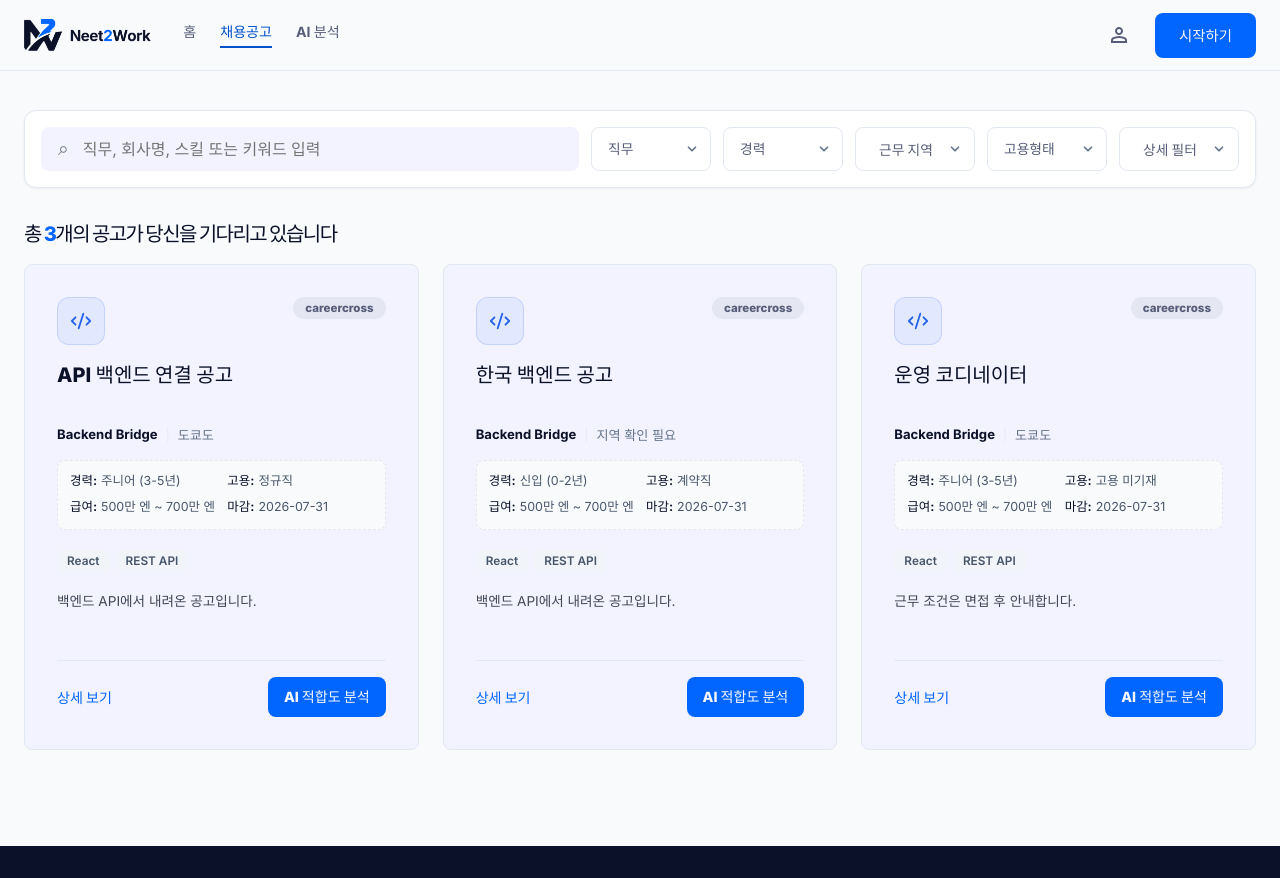
Scenario: Jobs page backend integration › filters only unspecified employment jobs with a server-side unspecified enum
Expected: the heading "API 백엔드 연결 공고" is shown, [57,363,233,387]
Select "미기재" in the 3rd dropdown named "고용형태" at (1047, 149), box [987,127,1107,171]
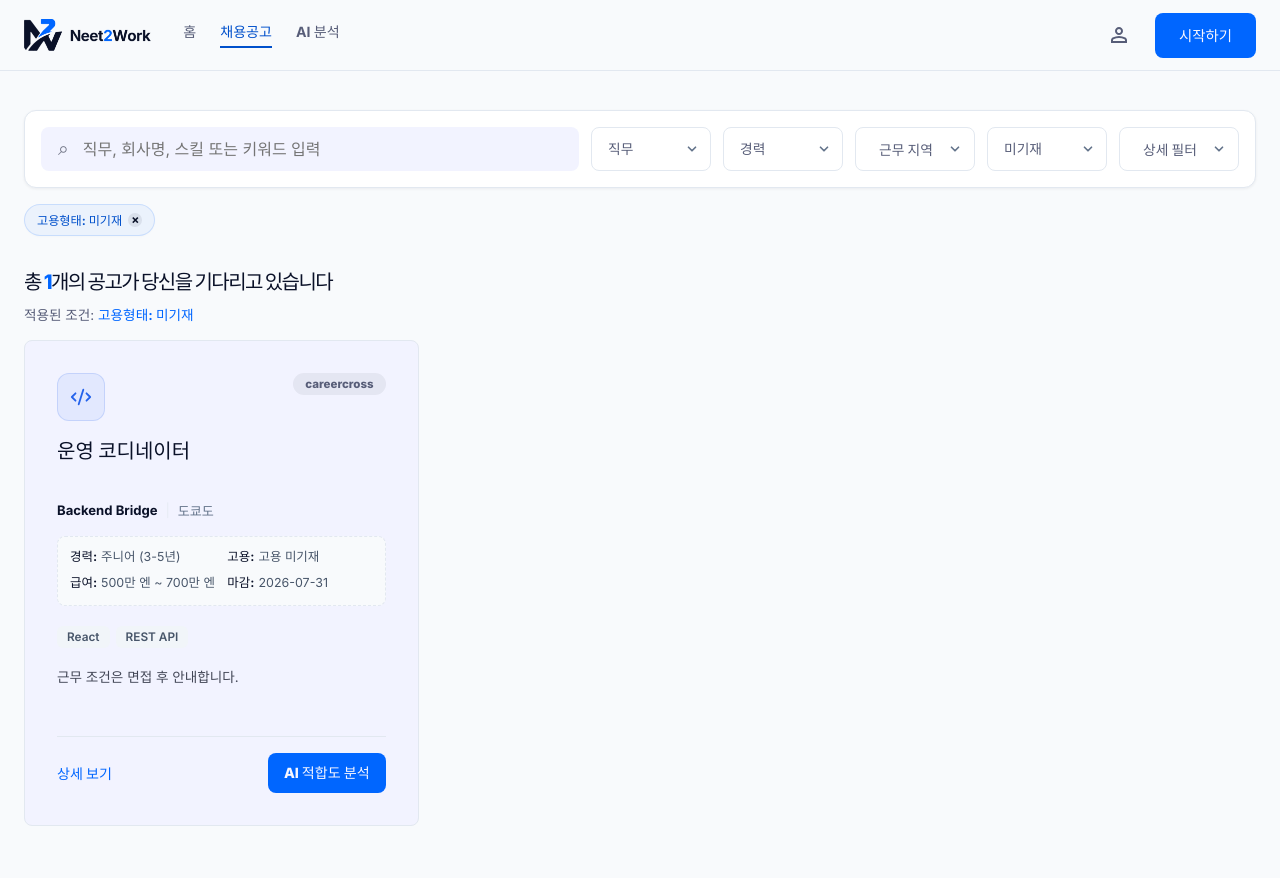
Expected: the heading "운영 코디네이터" is shown, [57,439,190,463]
Expected: the heading "API 백엔드 연결 공고" is gone
Expected: the button named "고용형태: 미기재 필터 지우기" is shown, [128,213,142,227]
